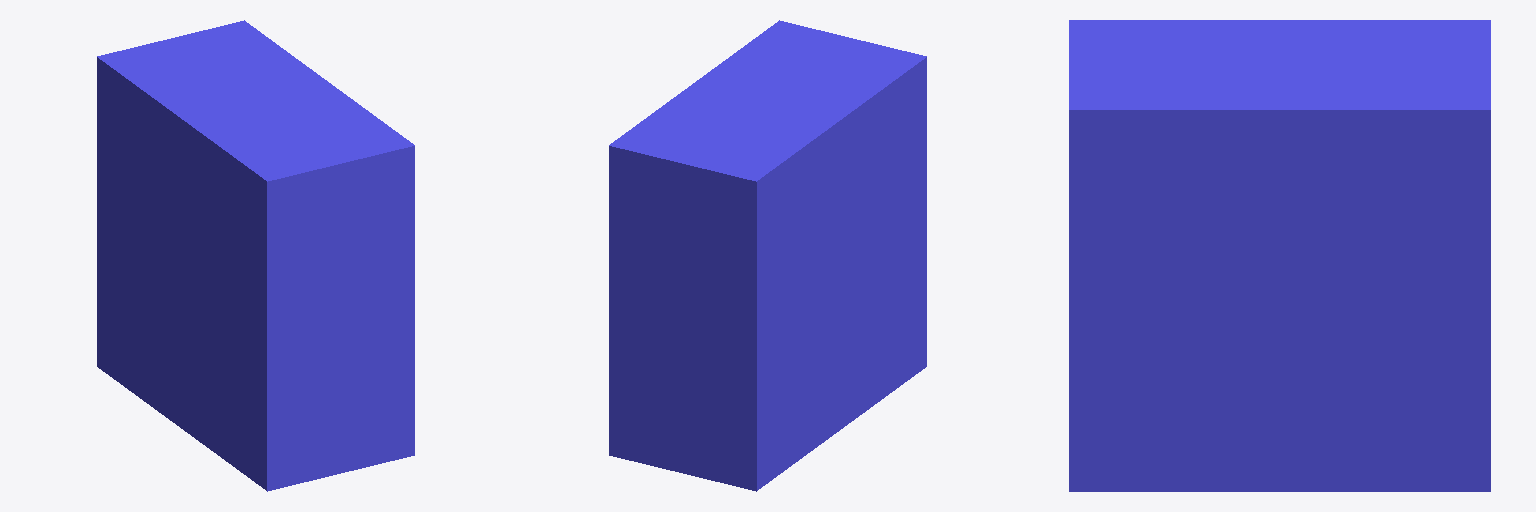
robot.urdf — block:
<robot name="block">
  <link name="block">

    <inertial>
      <origin xyz="0 0 0" />
      <mass value="0.1" />
      <inertia  ixx="0.00003375" ixy="0.0"  ixz="0.0"  iyy="0.00003375"  iyz="0.0"  izz="0.00003375" />
    </inertial>

    <visual>
      <origin xyz="0 0 0"/>
      <geometry>
        <box size="0.025 0.05 0.05" />
      </geometry>
      <material name="red">
        <color rgba="0.4 0.4 1.0 1.0"/>
      </material>
    </visual>

    <collision>
      <origin xyz="0 0 0"/>
      <geometry>
        <box size="0.025 0.05 0.05" />
      </geometry>
    </collision>

  </link>


</robot>

--- Facts derived from the render (not from the file) ---
Views: 3 orthographic renders of the robot side by side, from view 1: azimuth 30°, elevation 25°; view 2: azimuth 150°, elevation 25°; view 3: azimuth 270°, elevation 25°.
Robot: block — 1 links, 0 joints (none); root link block; default pose: all joints at 0.
Links seen in each view (by area): view 1: block; view 2: block; view 3: block.
Link boxes in pixels (x1,y1,x2,y2): block: (97, 20, 414, 491); block: (609, 20, 926, 491); block: (1069, 20, 1490, 491).
Bounding box of the posed robot: 0.025 × 0.05 × 0.05 m (x, y, z).
Geometry: primitives only (box / cylinder / sphere), no mesh files.